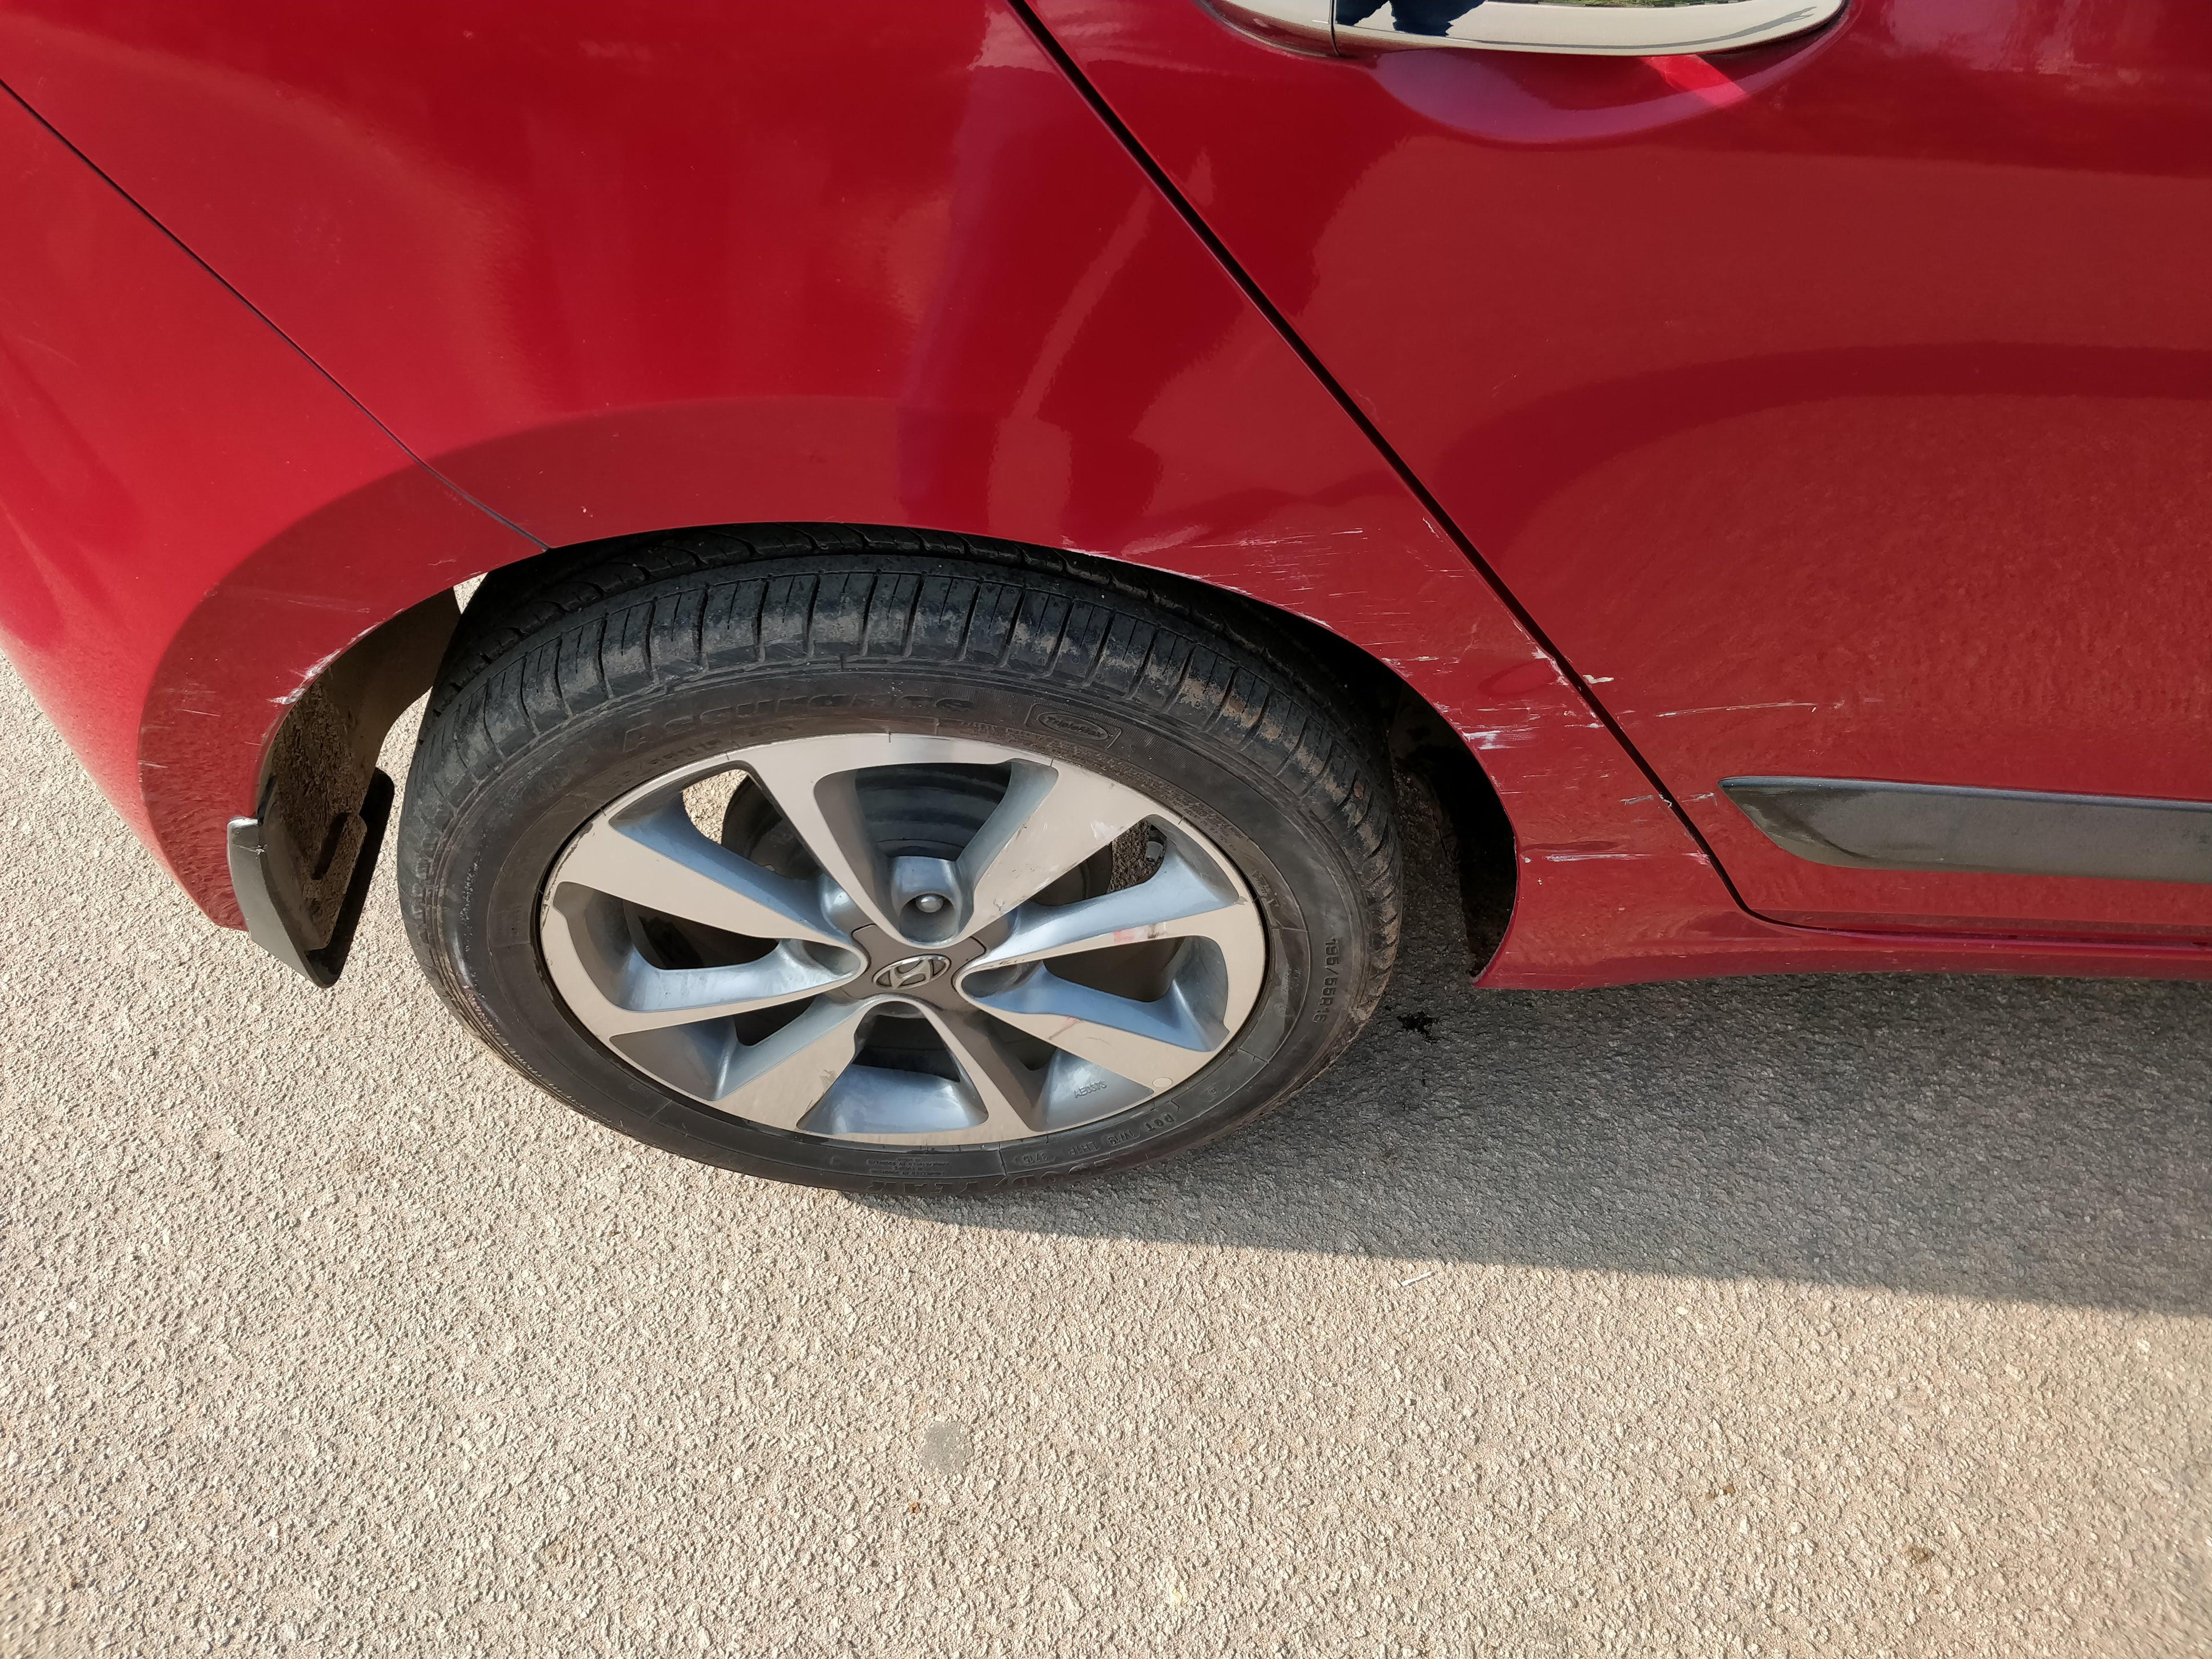quaterpanel-dent: (449, 0, 1522, 997)
